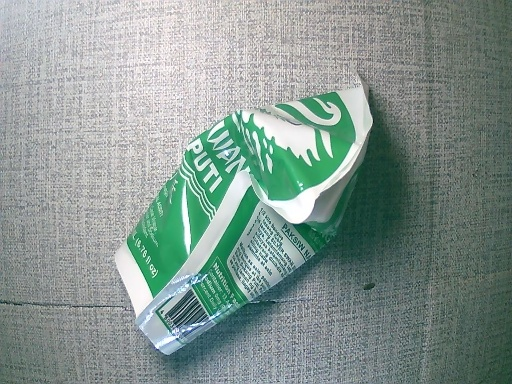plastic: (116, 75, 374, 360)
